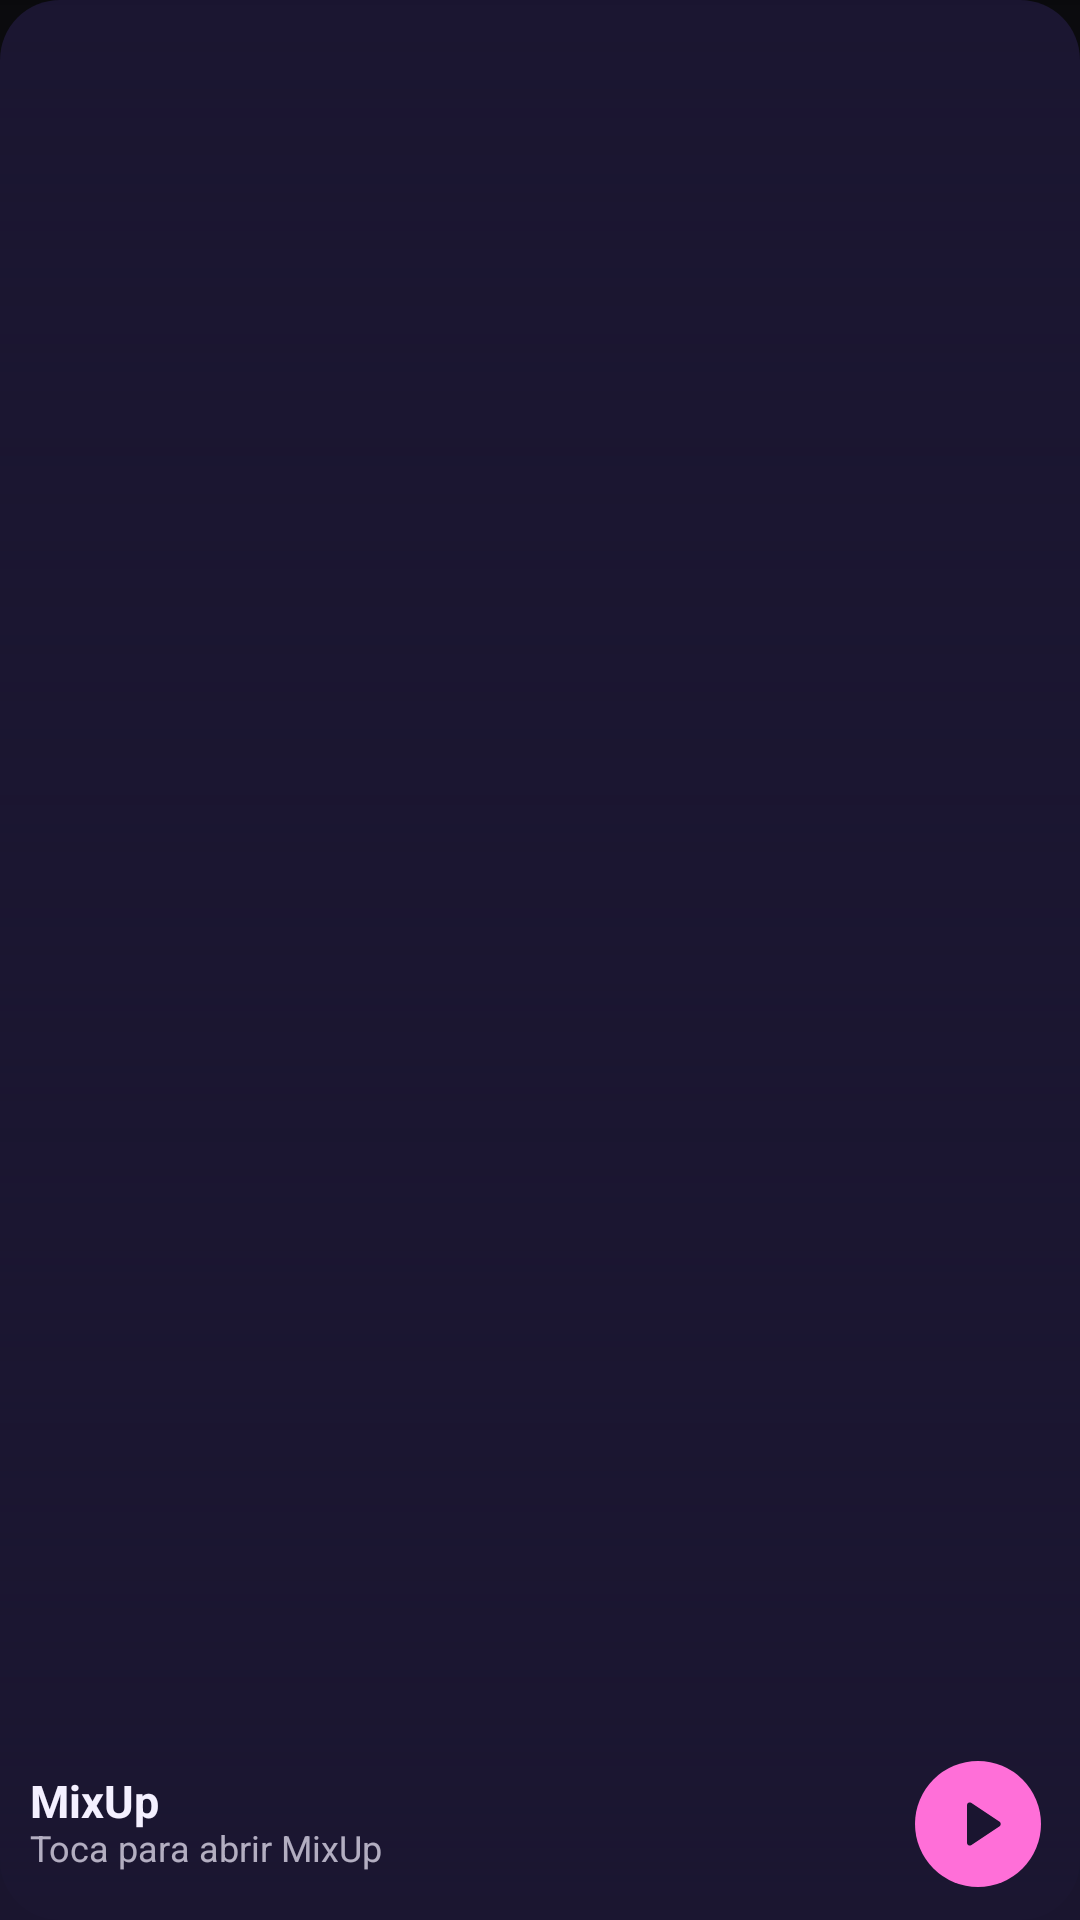

Named icons in this screenshot (1080 × 1920) and their bounding boxes, {"x1": x1, "y1": y1, "x2": x2, "y2": y2}:
play: {"x1": 967, "y1": 1802, "x2": 1001, "y2": 1846}
